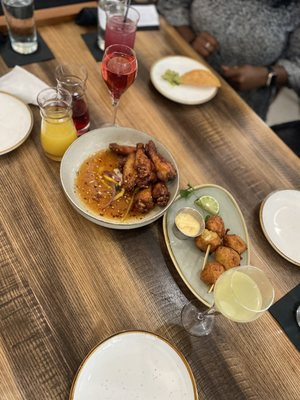pizza: (1, 0, 39, 55), (101, 3, 140, 49), (96, 0, 129, 51)
sushi: (162, 184, 267, 334), (59, 127, 180, 230), (68, 330, 199, 400), (258, 188, 300, 267)
